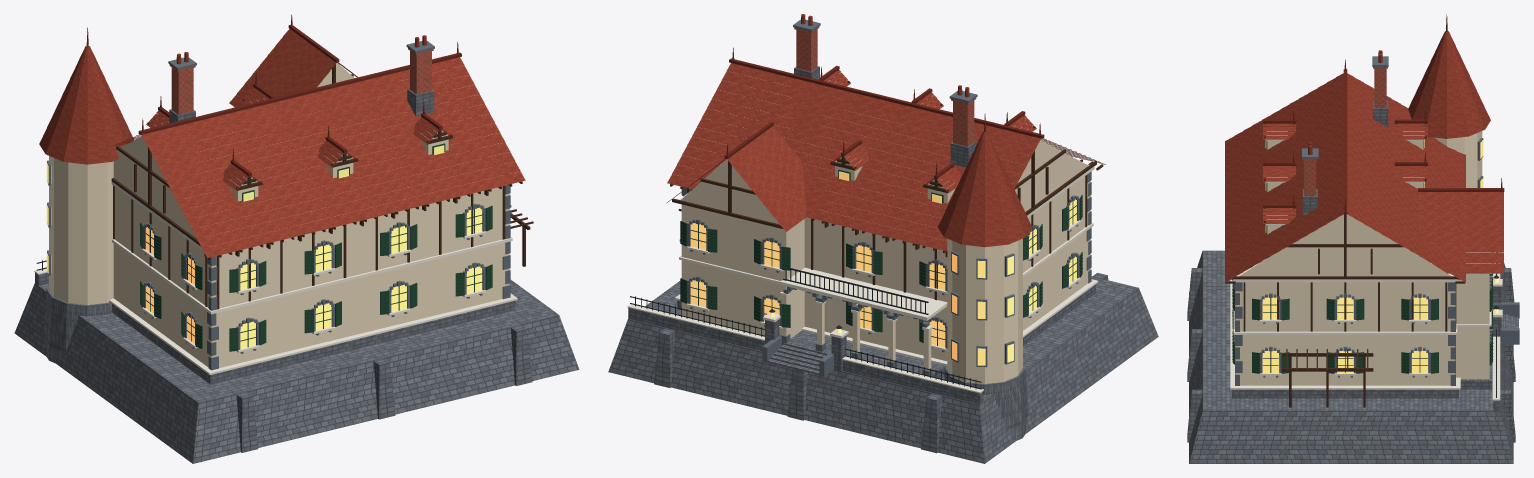
File: fv_cl_08_tran_hung_dao_49_creative_heritage_villa.glb
3 views of the same model, side by side, from view 1: azimuth 30°, elevation 25°; view 2: azimuth 150°, elevation 25°; view 3: azimuth 270°, elevation 25° (orthographic). The views are drawn at different scales.
Visible parts, largest first — view 1: Normandy_Brittany_Layered_Roof, Foundation_Skirt_Neg3p5m, Villa_Stucco_Walls, Molded_Cornices_And_Sills, PineGreen_Louvered_Shutters, Stone_Quoins_And_Arches, Exposed_Timber_Trusses_And_Rafters, Warm_Night_Windows_20h00_Blend, Roof_Ridges_Caps_And_Finials, Brick_Chimney_Stacks; view 2: Foundation_Skirt_Neg3p5m, Normandy_Brittany_Layered_Roof, Villa_Stucco_Walls, Molded_Cornices_And_Sills, Stone_Quoins_And_Arches, Warm_Night_Windows_20h00_Blend, PineGreen_Louvered_Shutters, Exposed_Timber_Trusses_And_Rafters, Roof_Ridges_Caps_And_Finials, Wrought_Iron_Balustrades_And_Gate, Brick_Chimney_Stacks; view 3: Normandy_Brittany_Layered_Roof, Foundation_Skirt_Neg3p5m, Villa_Stucco_Walls, Molded_Cornices_And_Sills, Exposed_Timber_Trusses_And_Rafters, Stone_Quoins_And_Arches, PineGreen_Louvered_Shutters, Warm_Night_Windows_20h00_Blend, Roof_Ridges_Caps_And_Finials, Brick_Chimney_Stacks.
Boxes of the visible parts, x1,y1,x2,y2 form: Normandy_Brittany_Layered_Roof: (39,28,525,258); Foundation_Skirt_Neg3p5m: (14,89,579,463); Villa_Stucco_Walls: (49,62,509,367); Molded_Cornices_And_Sills: (34,98,517,374); PineGreen_Louvered_Shutters: (140,143,492,351); Stone_Quoins_And_Arches: (47,41,510,370); Exposed_Timber_Trusses_And_Rafters: (111,64,533,309); Warm_Night_Windows_20h00_Blend: (46,145,482,348); Roof_Ridges_Caps_And_Finials: (86,14,461,184); Brick_Chimney_Stacks: (169,48,433,114); Foundation_Skirt_Neg3p5m: (608,66,1158,463); Normandy_Brittany_Layered_Roof: (667,14,1040,251); Villa_Stucco_Walls: (681,93,1090,383); Molded_Cornices_And_Sills: (627,80,1098,393); Stone_Quoins_And_Arches: (681,19,1091,376); Warm_Night_Windows_20h00_Blend: (690,171,1076,365); PineGreen_Louvered_Shutters: (680,169,1082,348); Exposed_Timber_Trusses_And_Rafters: (670,70,1103,300); Roof_Ridges_Caps_And_Finials: (666,47,1105,203); Wrought_Iron_Balustrades_And_Gate: (630,268,981,389); Brick_Chimney_Stacks: (794,27,976,146); Normandy_Brittany_Layered_Roof: (1225,31,1503,282); Foundation_Skirt_Neg3p5m: (1187,100,1518,463); Villa_Stucco_Walls: (1235,131,1489,385); Molded_Cornices_And_Sills: (1230,131,1502,400); Exposed_Timber_Trusses_And_Rafters: (1225,123,1497,407); Stone_Quoins_And_Arches: (1233,56,1519,385); PineGreen_Louvered_Shutters: (1232,140,1493,373); Warm_Night_Windows_20h00_Blend: (1262,140,1498,372); Roof_Ridges_Caps_And_Finials: (1263,14,1504,214); Brick_Chimney_Stacks: (1303,67,1387,196).
Size of the model in its own units: 27.91 by 21.63 by 22.12.
Materials: 12 (3 with a texture image).
